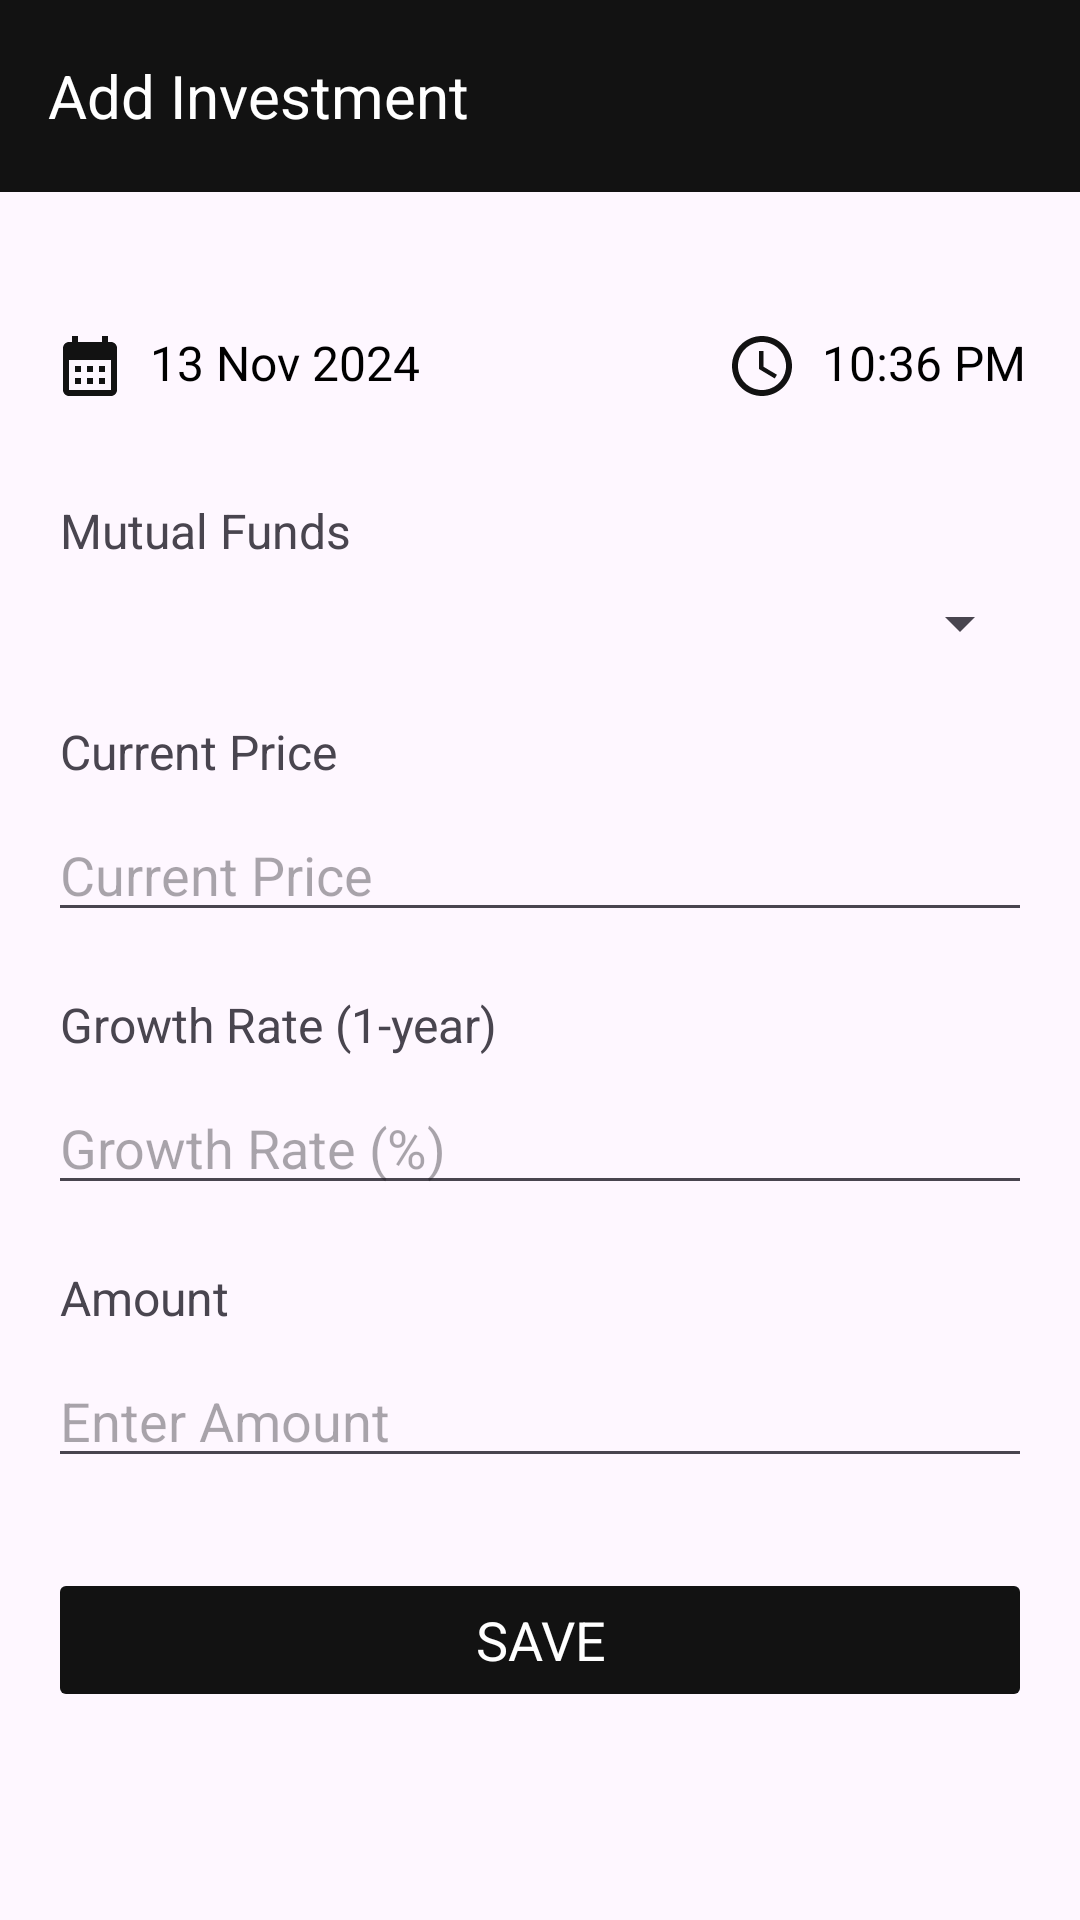

Icons on this 1080×1920 Android screen, each with the point to tap as point (x, y):
Date Icon: point (90, 366)
Time Icon: point (762, 366)
